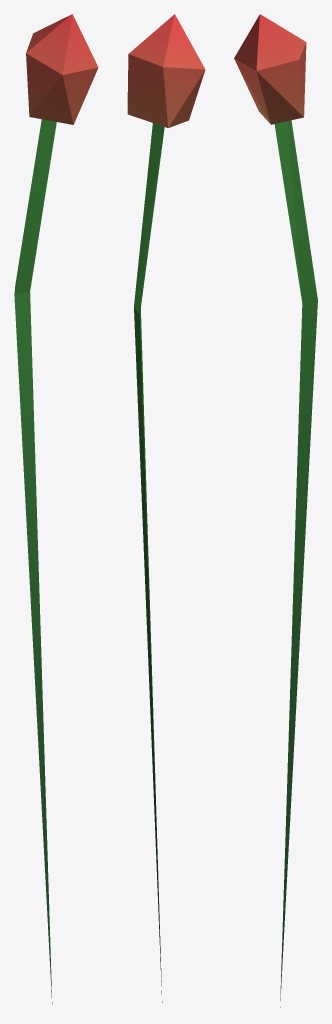
Rendered from ZLP_Grass_E_10.FBX.
3 renders of one model, left to right at view 1: azimuth 90°, elevation 25°; view 2: azimuth 150°, elevation 25°; view 3: azimuth 270°, elevation 25°, orthographic.
Parts seen in each view (by area): view 1: ZLP_Grass_E_10; view 2: ZLP_Grass_E_10; view 3: ZLP_Grass_E_10.
Boxes of the visible parts, x1=… form: ZLP_Grass_E_10: x1=14, y1=14, x2=98, y2=1004; ZLP_Grass_E_10: x1=127, y1=14, x2=205, y2=1002; ZLP_Grass_E_10: x1=234, y1=14, x2=317, y2=1007.
Bounding box in the file's own units: 16.08 × 217 × 16.56.
